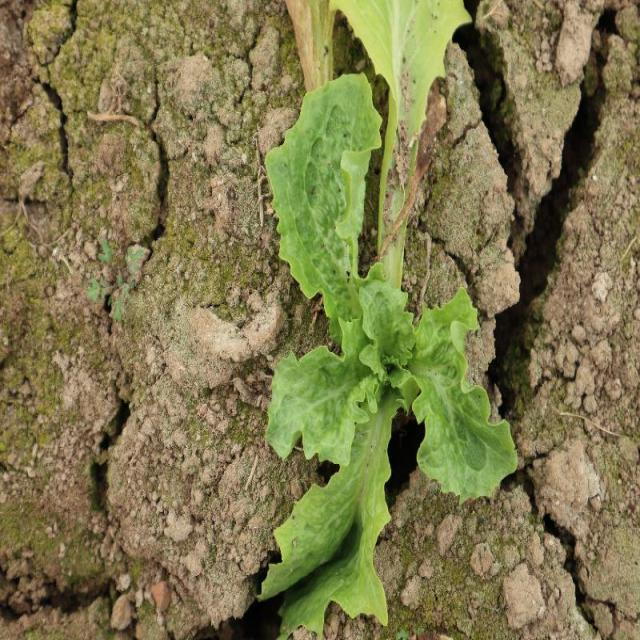crop: (261, 70, 519, 634)
